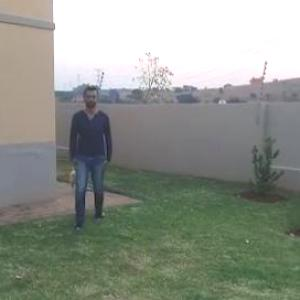follow: (64, 82, 110, 230)
